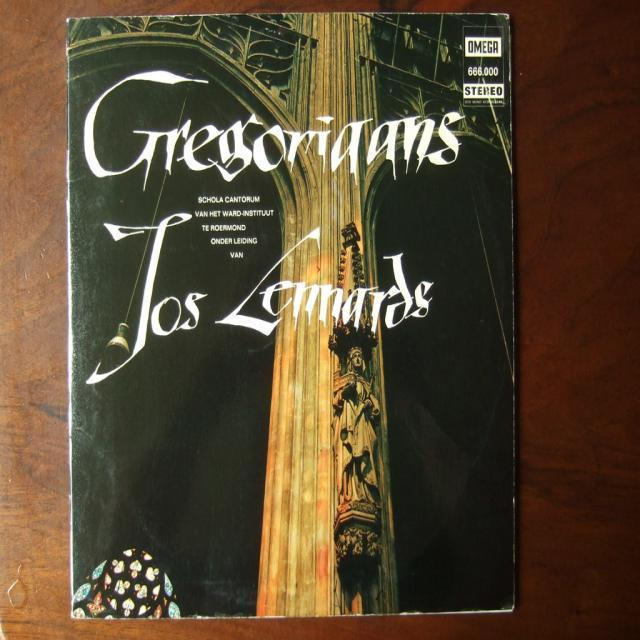book: (65, 14, 518, 619)
